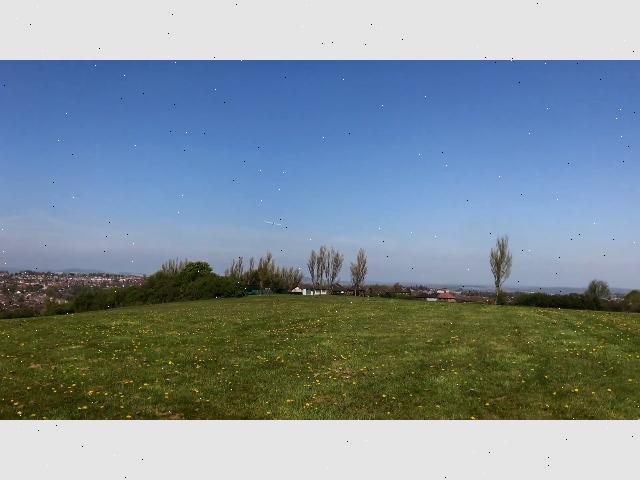Anti-Drone: (257, 217, 287, 232)
